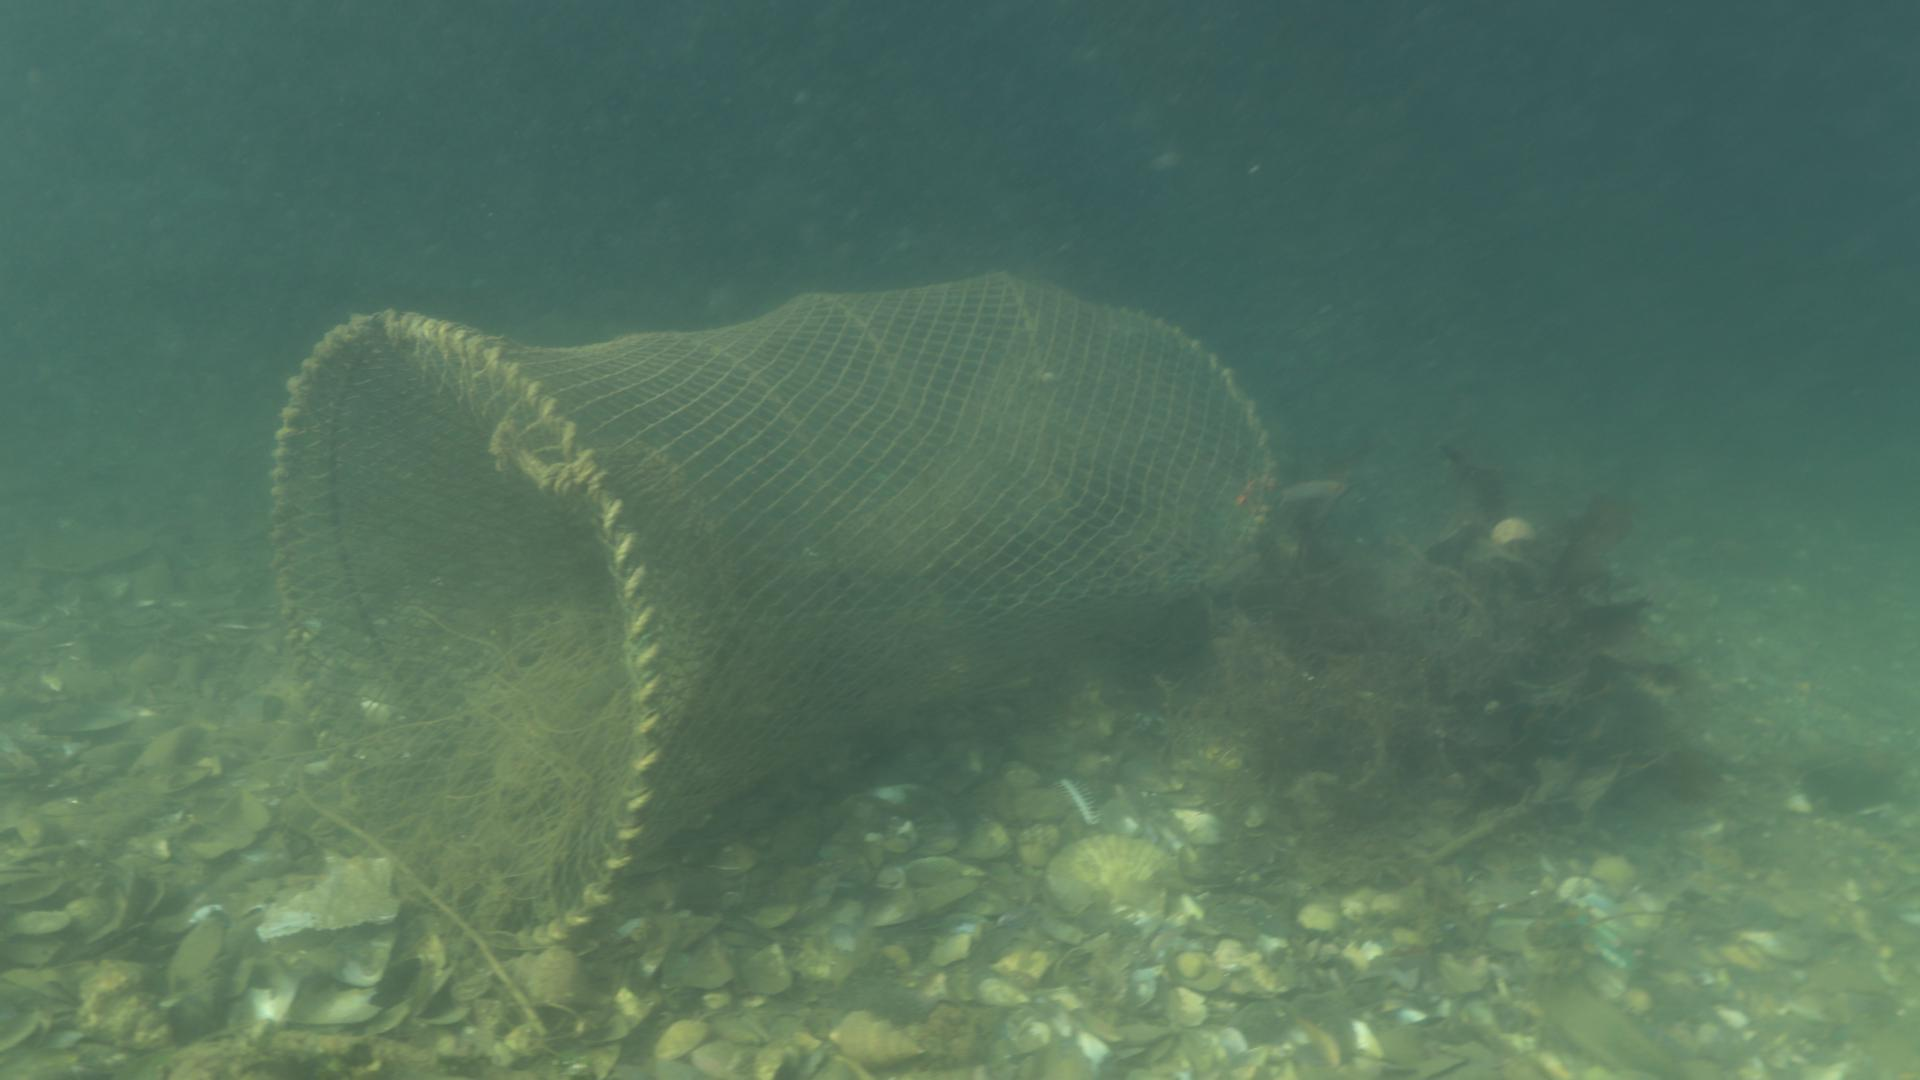spring fish trap: (269, 268, 1280, 948)
